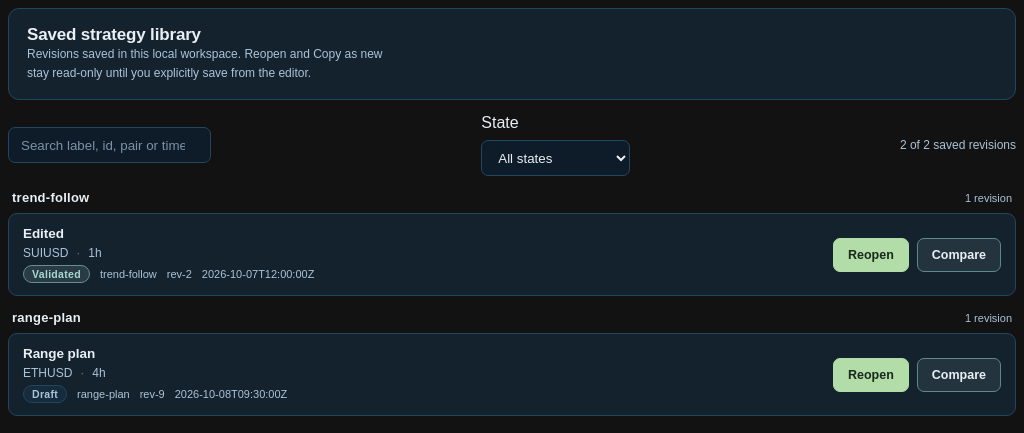
it: SavedStrategyLibrary signal slice — search › restores all loaded records when the query is cleared
Check: the number of list items with test id "library-row" is 2, box [8, 213, 1016, 296]; [8, 333, 1016, 416]
Type "range" into the search field named "search saved strategies".
click(110, 145); type("range")  # box [8, 127, 211, 163]
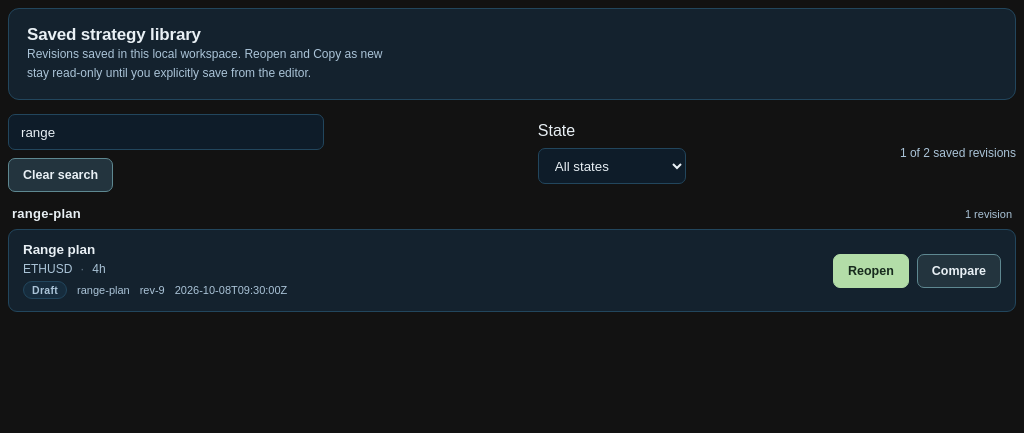
Check: the number of list items with test id "library-row" is 1, box [8, 229, 1016, 312]
Click the button "Clear search".
click(61, 175)  # box [8, 158, 113, 192]
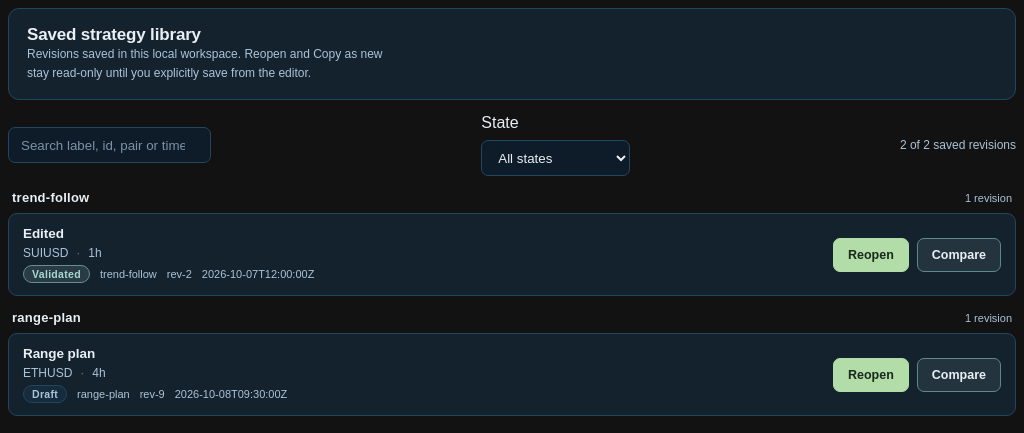
Check: the number of list items with test id "library-row" is 2, box [8, 213, 1016, 296]; [8, 333, 1016, 416]
Check: the text with test id "library-search-count" shows "2 of 2", box [900, 138, 1016, 152]
Check: the search field named "search saved strategies" is empty, box [8, 127, 211, 163]
